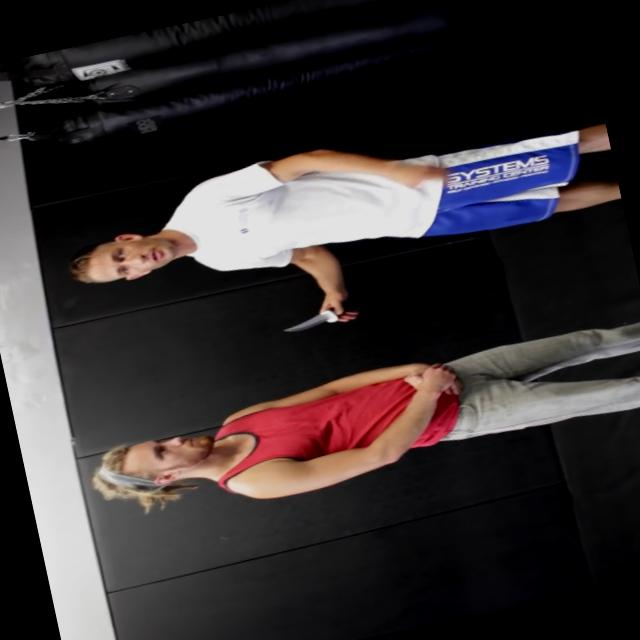knife: (263, 288, 374, 344)
